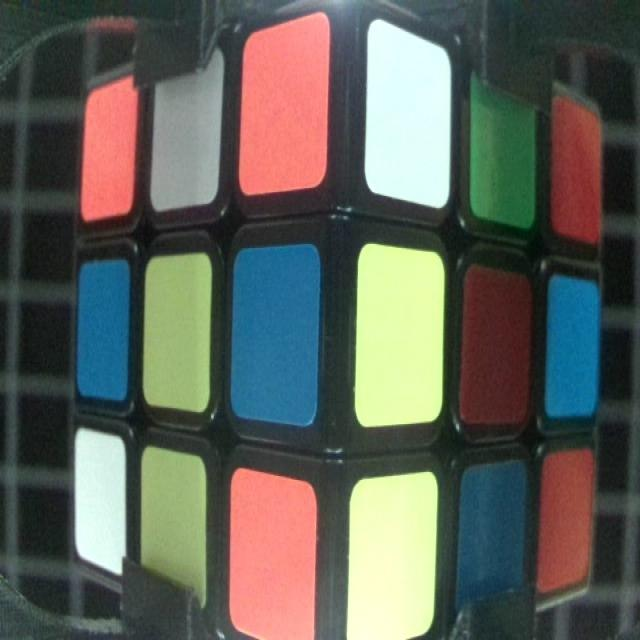b: (236, 253, 321, 430), (460, 468, 529, 608), (546, 270, 600, 420), (80, 263, 132, 405)
g: (471, 61, 541, 228)
o: (232, 470, 316, 640), (246, 24, 325, 186), (84, 84, 138, 215), (546, 453, 597, 585), (558, 95, 603, 243)
r: (464, 274, 536, 424)
w: (366, 31, 453, 208), (154, 48, 220, 201), (73, 428, 129, 576)
y: (352, 248, 445, 424), (348, 470, 437, 640), (144, 255, 214, 412), (142, 449, 208, 612)
